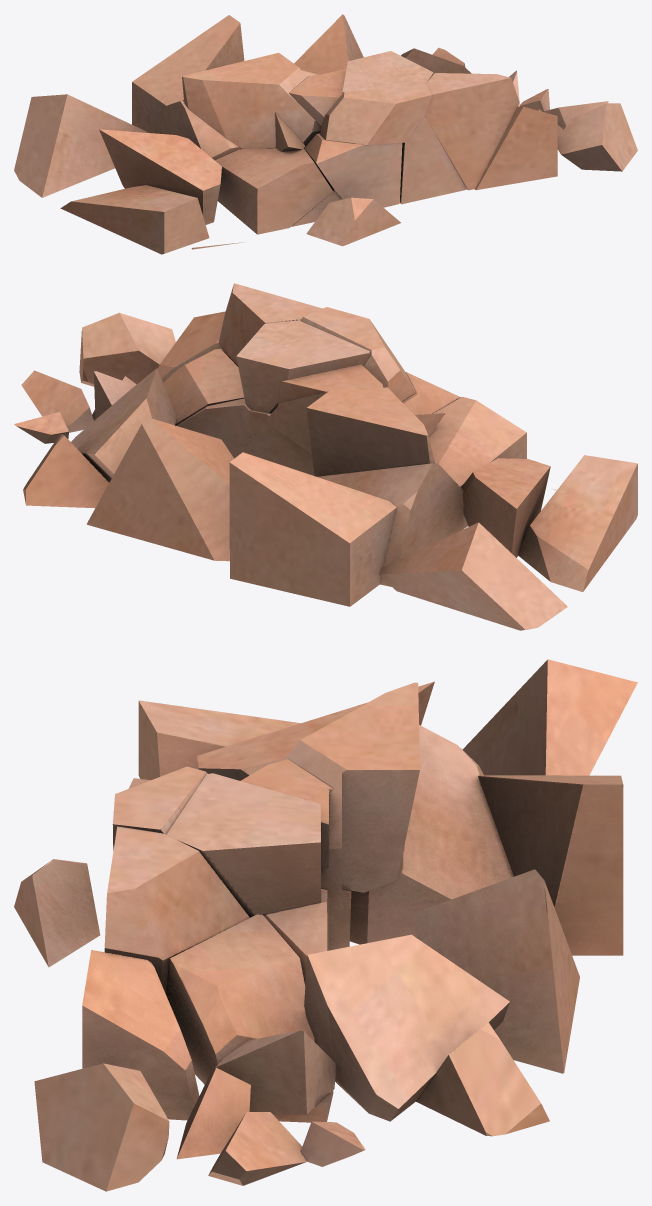
File: muralla2.fbx
3 views of the same model, one above another, from view 1: azimuth 30°, elevation 25°; view 2: azimuth 150°, elevation 25°; view 3: azimuth 270°, elevation 25° (orthographic). The views are drawn at different scales.
Parts seen in each view (by area): view 1: Cube_cell.001; view 2: Cube_cell.001; view 3: Cube_cell.001.
Boxes of the visible parts, left/top/right/bottom form: Cube_cell.001: left=14, top=14, right=637, bottom=254; Cube_cell.001: left=14, top=283, right=637, bottom=630; Cube_cell.001: left=14, top=659, right=637, bottom=1191.
Bounding box in the file's own units: 1038 × 205 × 614.
